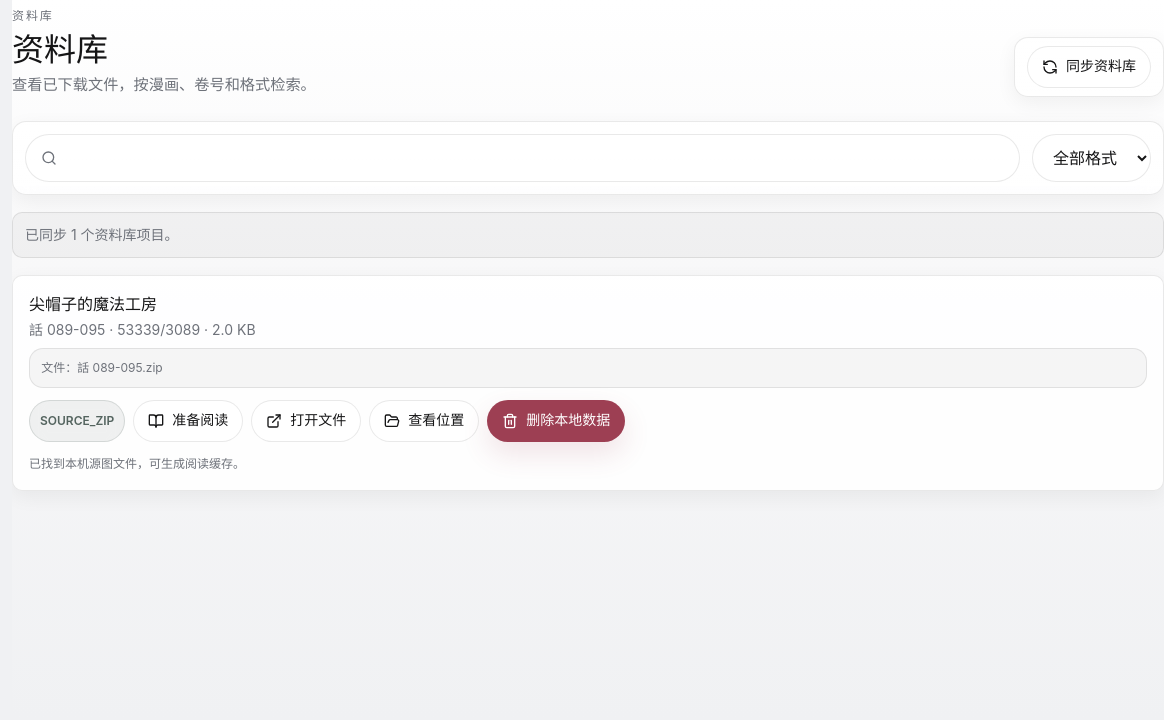
it: Library reader entry › deletes reader-capable local library data through native storage
Expected: the text "尖帽子的魔法工房" is shown, top-left (29, 294), bottom-right (157, 314)
Click the button "删除本地数据". click: (556, 421)
box: top-left (487, 400), bottom-right (625, 442)
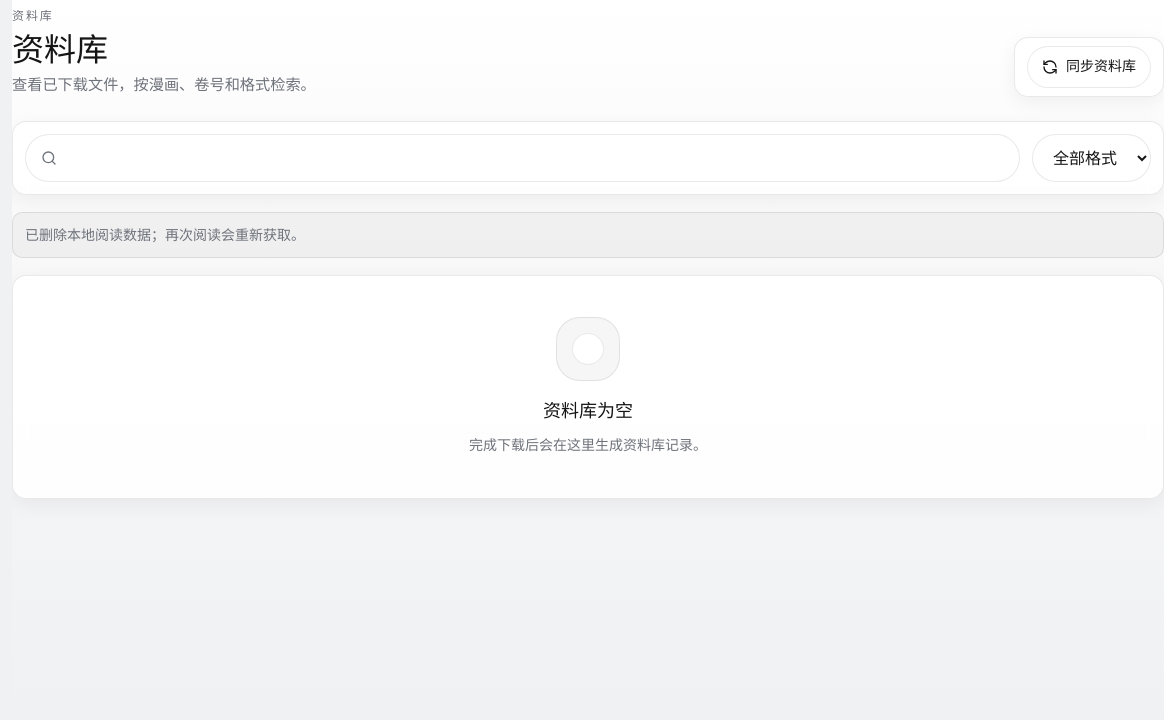
Now the text "已删除本地阅读数据；再次阅读会重新获取。" is shown, box top-left (12, 212), bottom-right (1163, 258)
